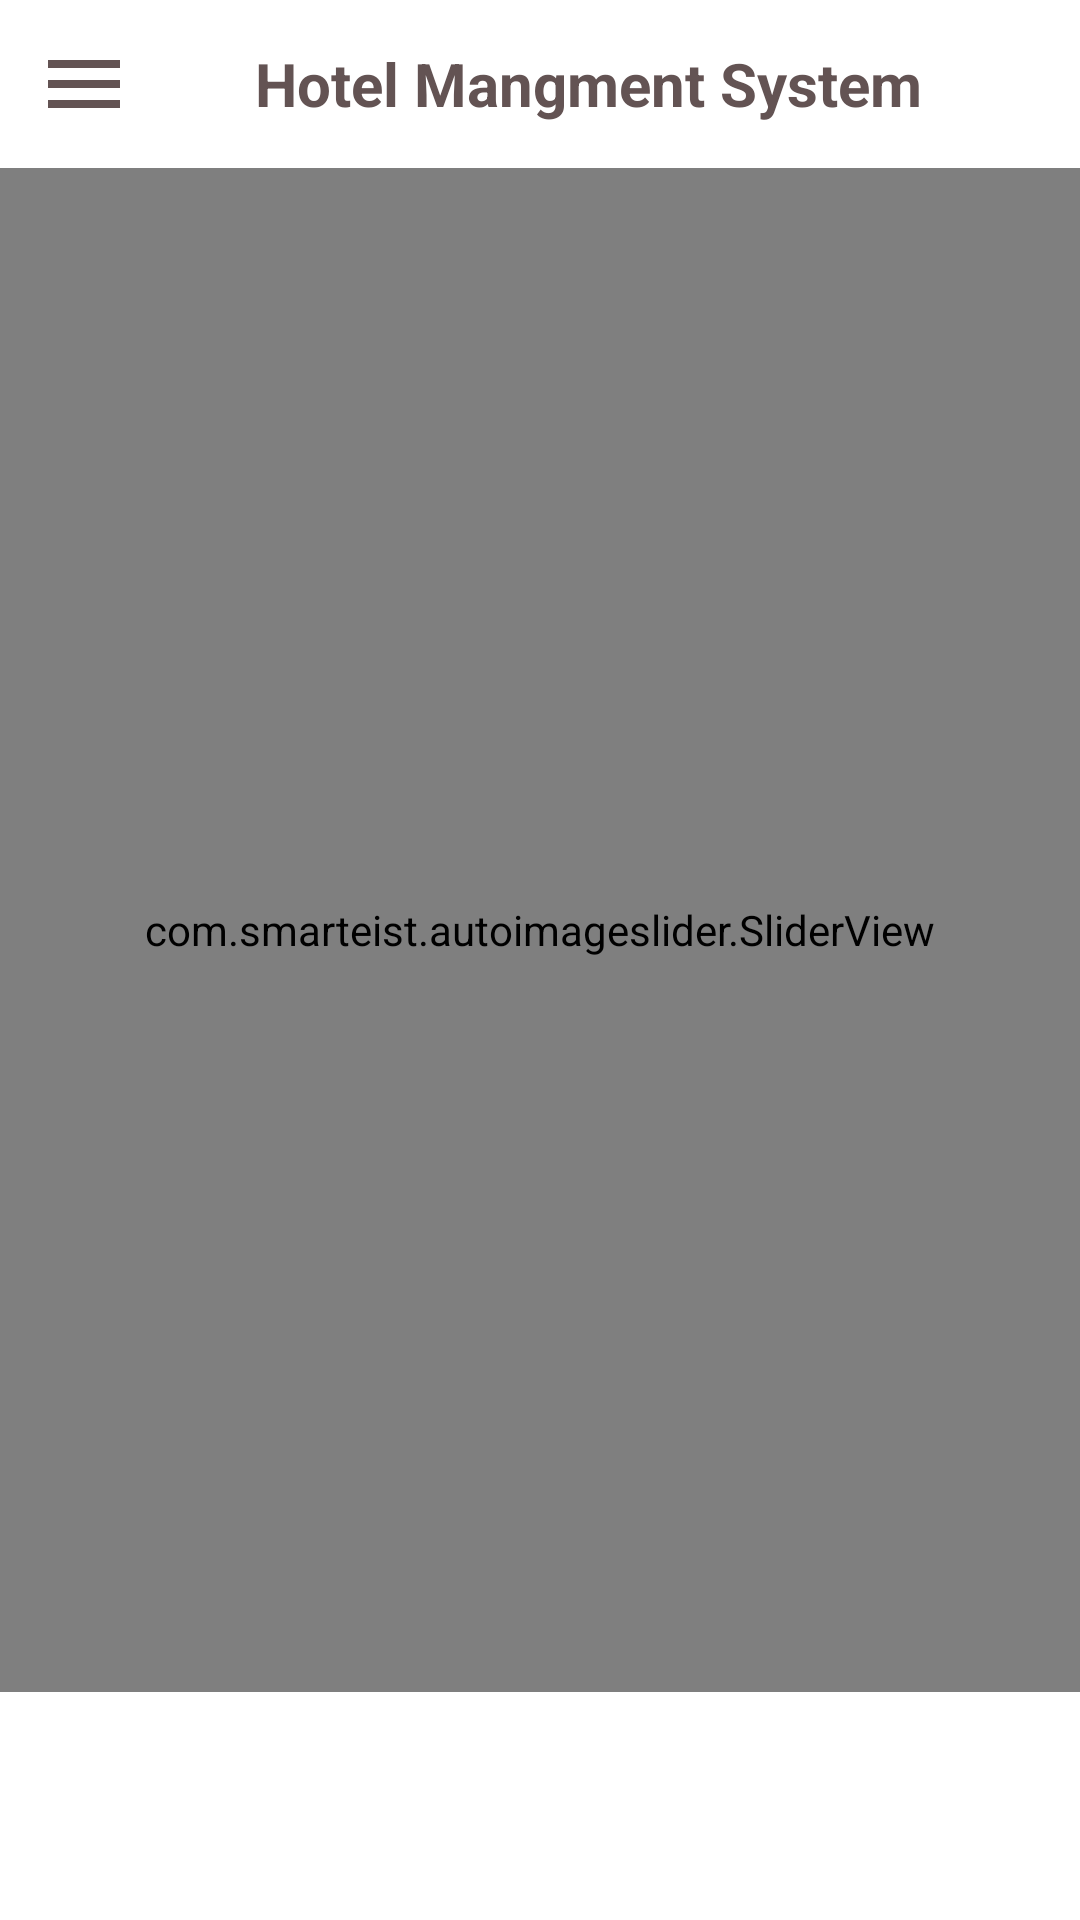

Where to tap for icons on this 1080w x 1920h app screen, as [x,y]:
menu: [84,84]
